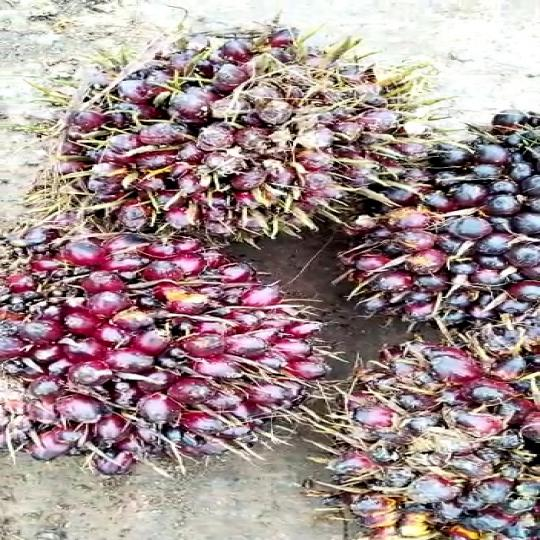kurang masak: (0, 183, 380, 504), (81, 28, 479, 272), (291, 328, 540, 540)
